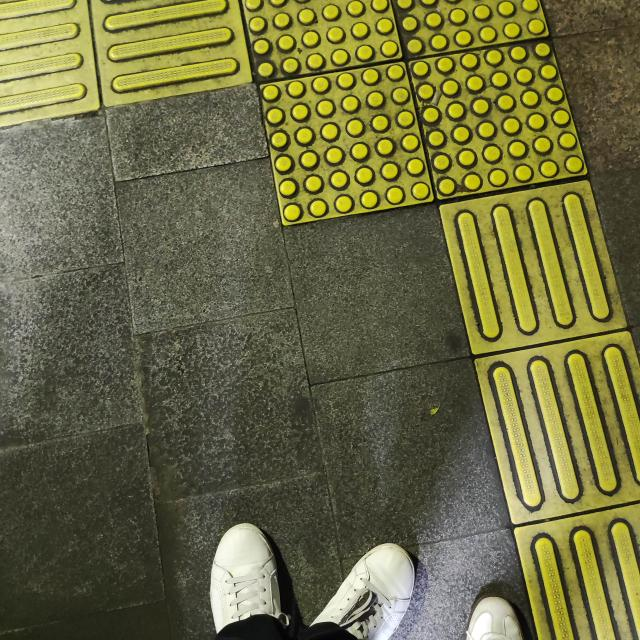kiri: (11, 0, 640, 295)
